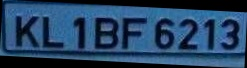character: (14, 13, 39, 49), (121, 15, 147, 49), (93, 15, 118, 49), (41, 14, 64, 48), (154, 16, 175, 49), (177, 17, 198, 50), (219, 17, 239, 49), (72, 16, 86, 49), (203, 18, 216, 50)
